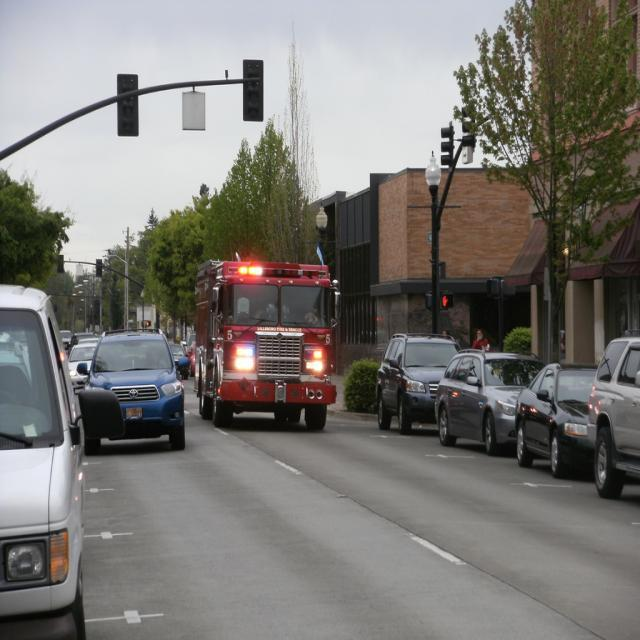off traffic light: (442, 124, 453, 168)
